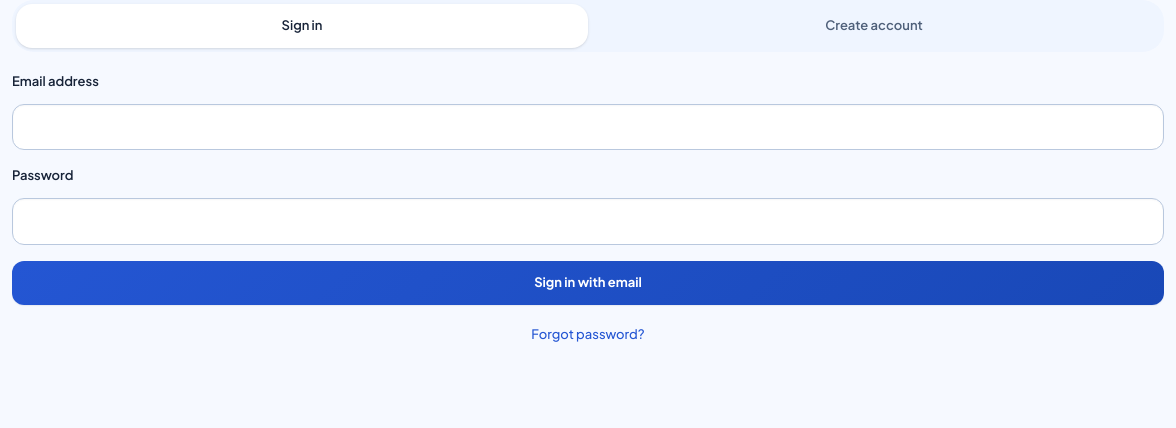
Test: EmailPasswordAuth › shows a helpful sign-in error
Type "candidate@example.com" into the field labelled "Email address". click: (588, 127)
box: [12, 104, 1164, 150]
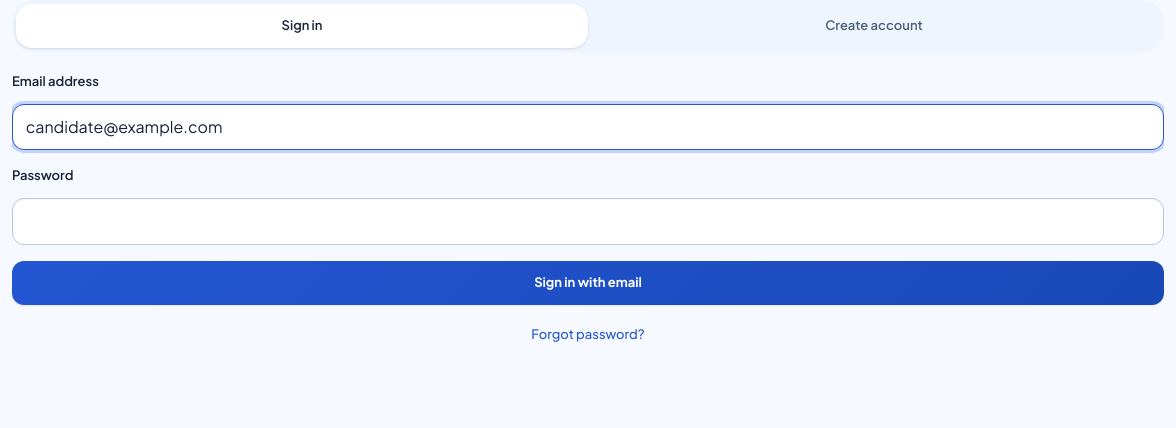
Type "wrongpass" into the password field labelled "Password". click: (588, 221)
box: [12, 198, 1164, 245]
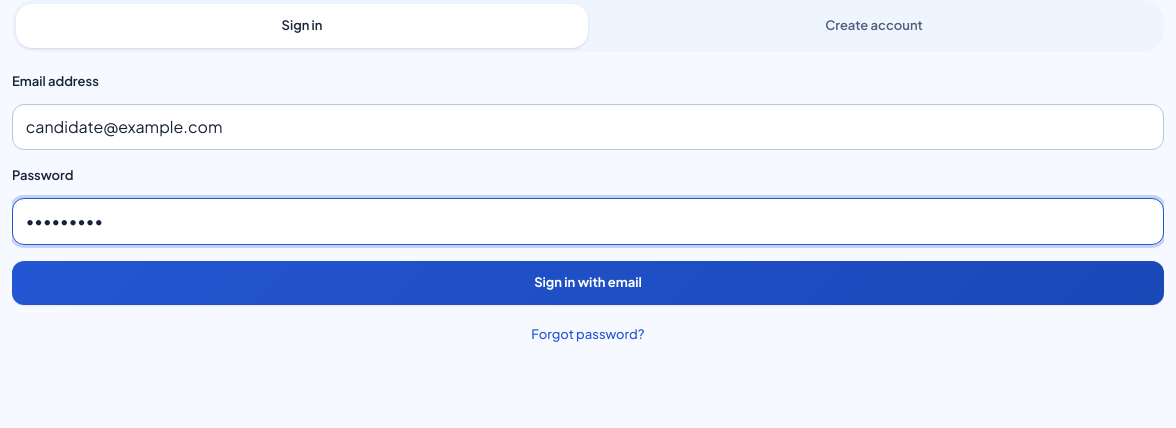
Click the button "Sign in with email". click: (588, 283)
box: [12, 261, 1164, 305]
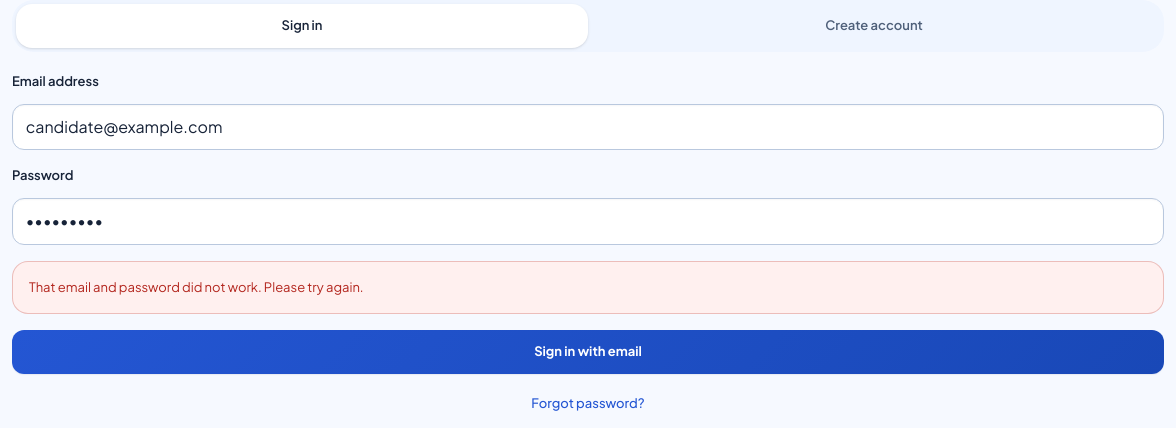
Now the message shows "did not work", box [29, 279, 364, 295]
